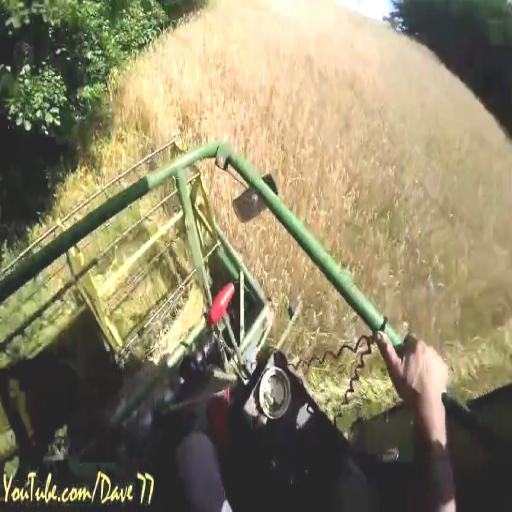bugday: (65, 0, 511, 386), (203, 162, 353, 344)
